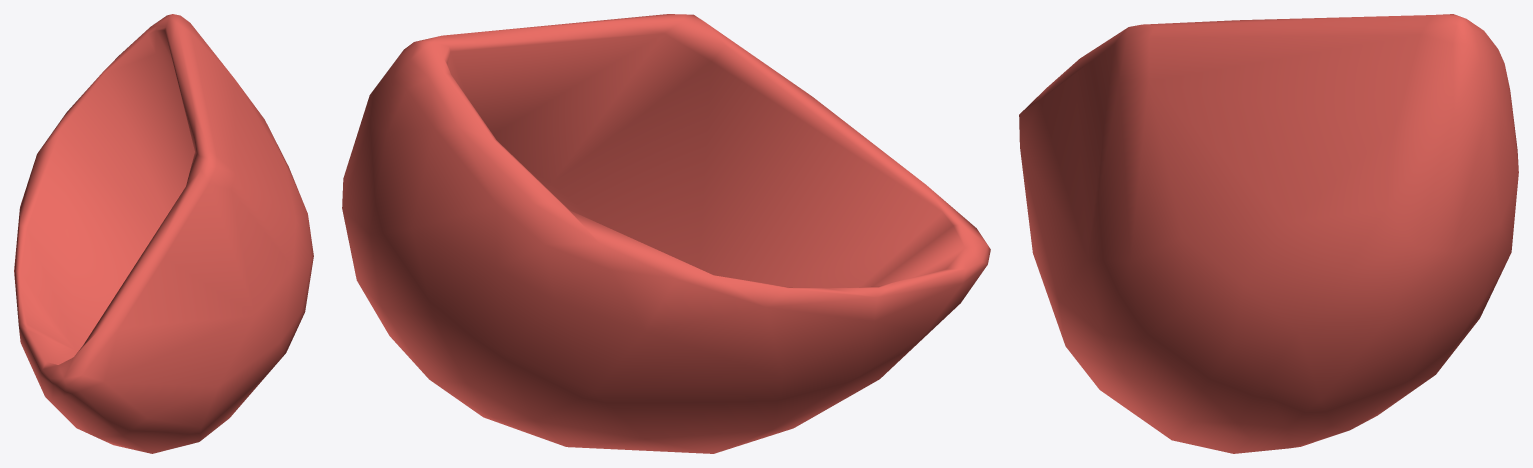
3 renders of one model, left to right at view 1: azimuth 30°, elevation 25°; view 2: azimuth 150°, elevation 25°; view 3: azimuth 270°, elevation 25°, orthographic. The views are drawn at different scales.
Visible parts, largest first — view 1: Non-coronary leaflet.009; view 2: Non-coronary leaflet.009; view 3: Non-coronary leaflet.009.
Part boxes in pixels (x1=…): Non-coronary leaflet.009: x1=14, y1=14, x2=313, y2=453; Non-coronary leaflet.009: x1=342, y1=14, x2=990, y2=453; Non-coronary leaflet.009: x1=1019, y1=14, x2=1518, y2=453.
Bounding box in the file's own units: 0.5858 × 0.5497 × 0.5261.
